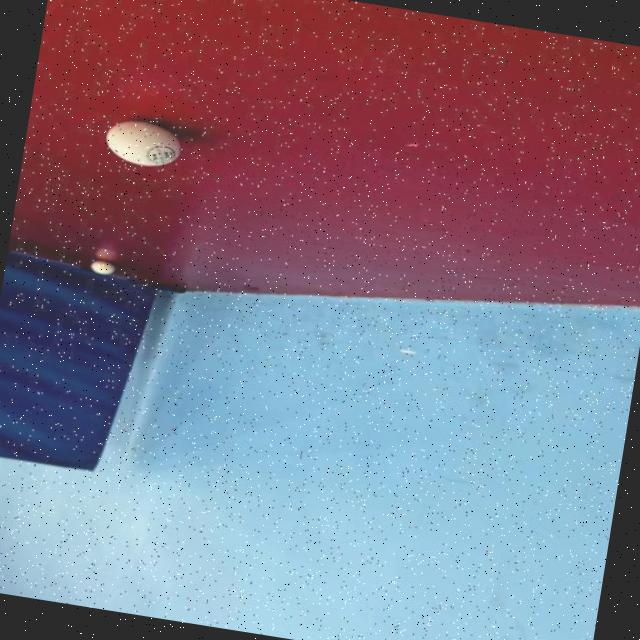ping-pong-ball: (92, 108, 204, 181), (84, 256, 124, 282)
